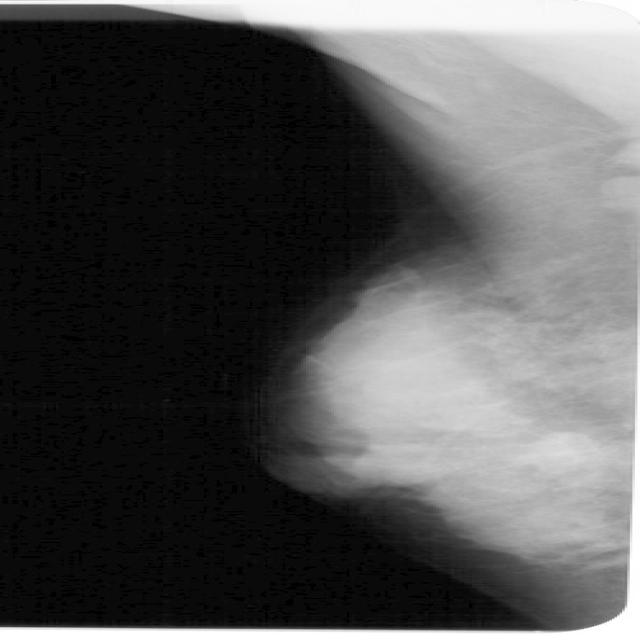tumour: (520, 432, 604, 479)
